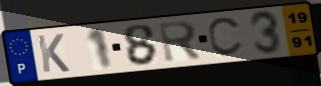1: (85, 26, 115, 72)
3: (248, 9, 284, 58)
8: (121, 23, 160, 67)
C: (206, 15, 245, 59)
K: (35, 32, 72, 74)
R: (156, 19, 204, 65)
